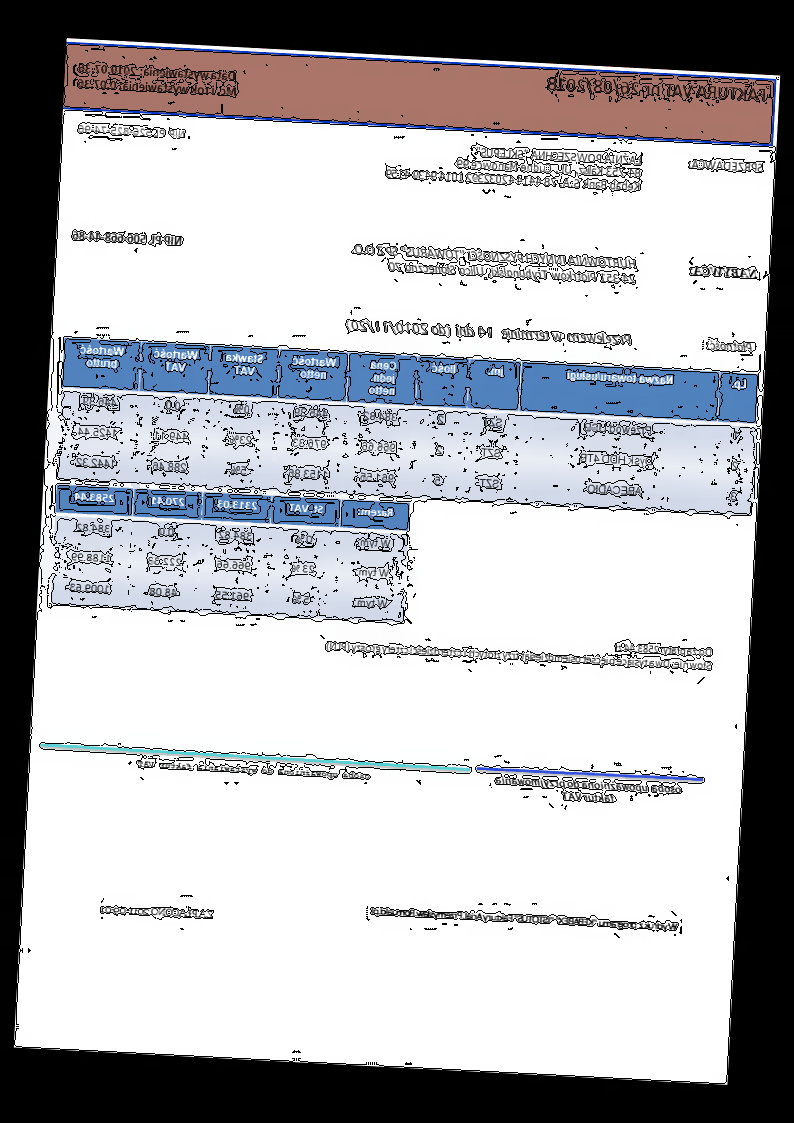Table: (55, 335, 760, 517), (49, 483, 412, 625)
TextBox: (324, 624, 714, 674), (383, 138, 645, 194), (349, 240, 639, 286), (368, 904, 681, 934), (343, 318, 633, 347), (545, 74, 769, 106), (491, 774, 683, 808), (74, 60, 241, 99), (135, 757, 373, 782), (97, 901, 216, 922), (69, 228, 185, 249), (75, 122, 187, 142), (686, 155, 766, 174), (686, 263, 760, 281), (705, 338, 756, 354)
